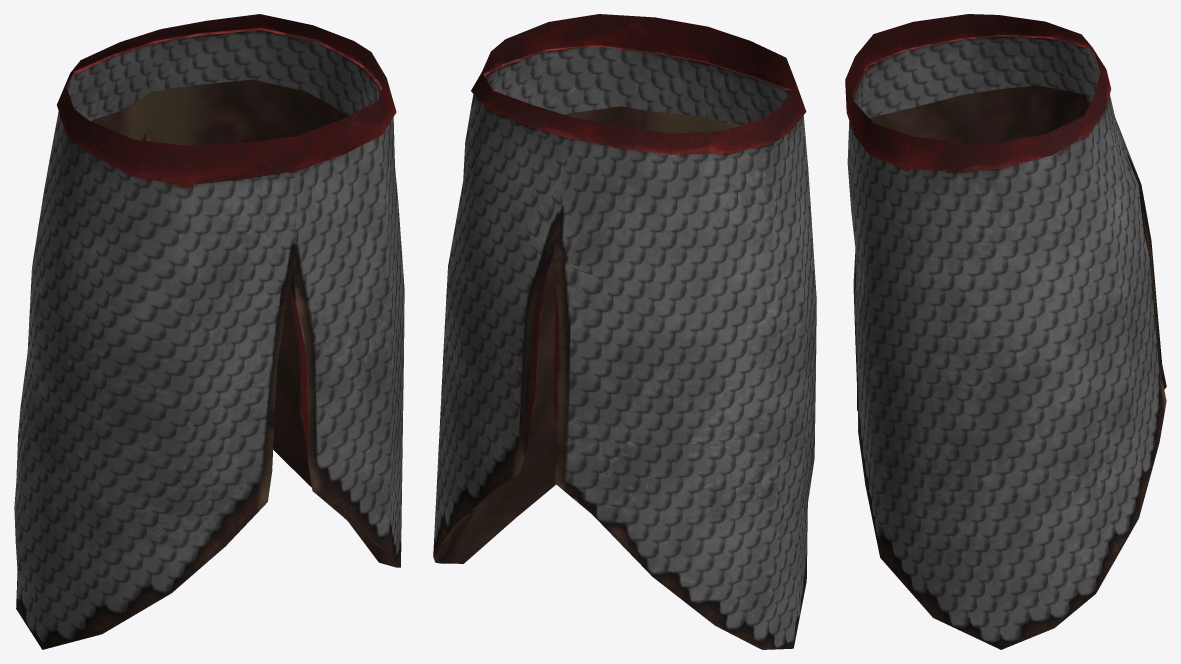
File: clo_cts_rohan_royal_guard_armor.fbx
3 renders of one model, left to right at view 1: azimuth 30°, elevation 25°; view 2: azimuth 150°, elevation 25°; view 3: azimuth 270°, elevation 25°, orthographic. The views are drawn at different scales.
Visible parts, largest first — view 1: clo_cts_rohan_royal_guard_armor; view 2: clo_cts_rohan_royal_guard_armor; view 3: clo_cts_rohan_royal_guard_armor.
Part boxes in pixels (left/top/right/bottom): clo_cts_rohan_royal_guard_armor: left=14, top=14, right=404, bottom=649; clo_cts_rohan_royal_guard_armor: left=433, top=14, right=816, bottom=649; clo_cts_rohan_royal_guard_armor: left=845, top=14, right=1166, bottom=649.
Bounding box in the file's own units: 0.4843 × 0.4214 × 0.7282.
1 material, 1 textured.
